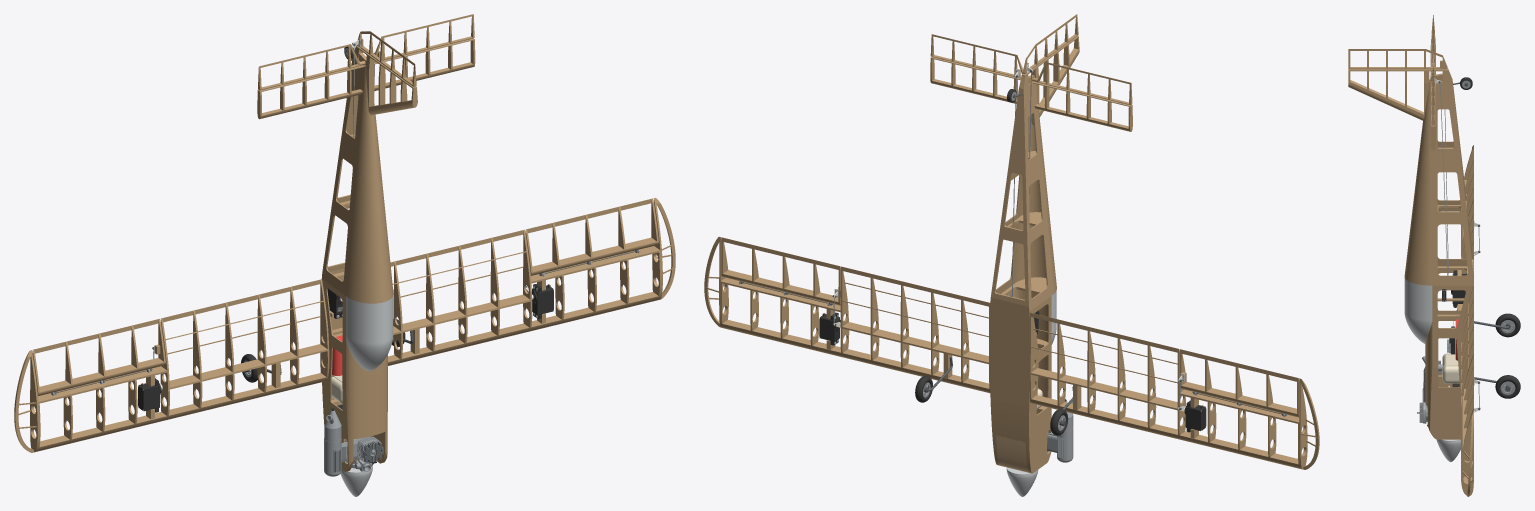
Rendered from tinker.obj.
3 renders of one model, left to right at view 1: azimuth 30°, elevation 25°; view 2: azimuth 150°, elevation 25°; view 3: azimuth 270°, elevation 25°, orthographic. The views are drawn at different scales.
Visible parts, largest first — view 1: obj_116, obj_11, obj_56, obj_106, obj_58, obj_13, obj_9, obj_55, obj_81, obj_12, obj_113, obj_57 (+11 smaller); view 2: obj_116, obj_11, obj_56, obj_9, obj_55, obj_58, obj_13, obj_12, obj_57, obj_33, obj_113, obj_1 (+12 smaller); view 3: obj_116, obj_106, obj_113, obj_56, obj_57, obj_114, obj_58, obj_94, obj_97, obj_101, obj_13, obj_85 (+7 smaller).
Boxes of the visible parts, x1=… form: obj_116: x1=321, y1=58, x2=393, y2=471; obj_11: x1=160, y1=280, x2=329, y2=415; obj_56: x1=393, y1=230, x2=532, y2=359; obj_106: x1=346, y1=296, x2=393, y2=371; obj_58: x1=525, y1=198, x2=658, y2=275; obj_13: x1=32, y1=318, x2=165, y2=396; obj_9: x1=36, y1=373, x2=327, y2=451; obj_55: x1=388, y1=292, x2=660, y2=365; obj_81: x1=324, y1=408, x2=383, y2=476; obj_12: x1=30, y1=350, x2=137, y2=452; obj_113: x1=352, y1=45, x2=417, y2=115; obj_57: x1=555, y1=198, x2=662, y2=319; obj_116: x1=990, y1=81, x2=1056, y2=473; obj_11: x1=1029, y1=312, x2=1185, y2=435; obj_56: x1=840, y1=266, x2=990, y2=388; obj_9: x1=1030, y1=395, x2=1300, y2=468; obj_55: x1=721, y1=320, x2=990, y2=393; obj_58: x1=721, y1=237, x2=840, y2=305; obj_13: x1=1180, y1=349, x2=1299, y2=417; obj_12: x1=1207, y1=378, x2=1307, y2=469; obj_57: x1=719, y1=237, x2=818, y2=345; obj_33: x1=1033, y1=81, x2=1132, y2=131; obj_113: x1=1019, y1=36, x2=1079, y2=125; obj_1: x1=1031, y1=368, x2=1177, y2=410; obj_116: x1=1404, y1=79, x2=1473, y2=439; obj_106: x1=1404, y1=278, x2=1432, y2=343; obj_113: x1=1348, y1=68, x2=1452, y2=120; obj_56: x1=1461, y1=287, x2=1473, y2=424; obj_57: x1=1461, y1=410, x2=1473, y2=495; obj_114: x1=1348, y1=49, x2=1447, y2=69; obj_58: x1=1464, y1=355, x2=1473, y2=441; obj_94: x1=1438, y1=353, x2=1459, y2=383; obj_97: x1=1495, y1=375, x2=1520, y2=398; obj_101: x1=1495, y1=313, x2=1520, y2=337; obj_13: x1=1464, y1=146, x2=1473, y2=215; obj_85: x1=1436, y1=439, x2=1460, y2=462.
Bounding box in the file's own units: 314 × 217 × 81.92.
